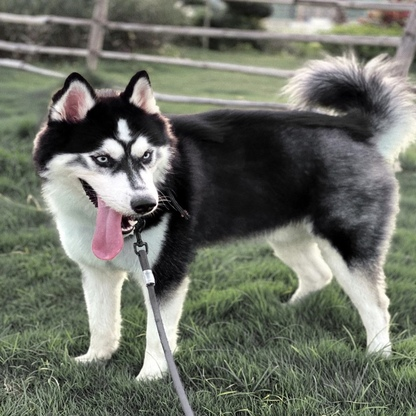husky: (28, 47, 416, 386)
